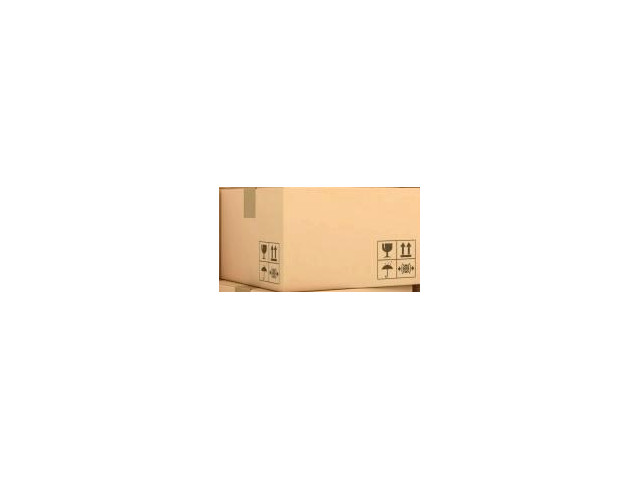cardboard: (217, 186, 419, 291)
